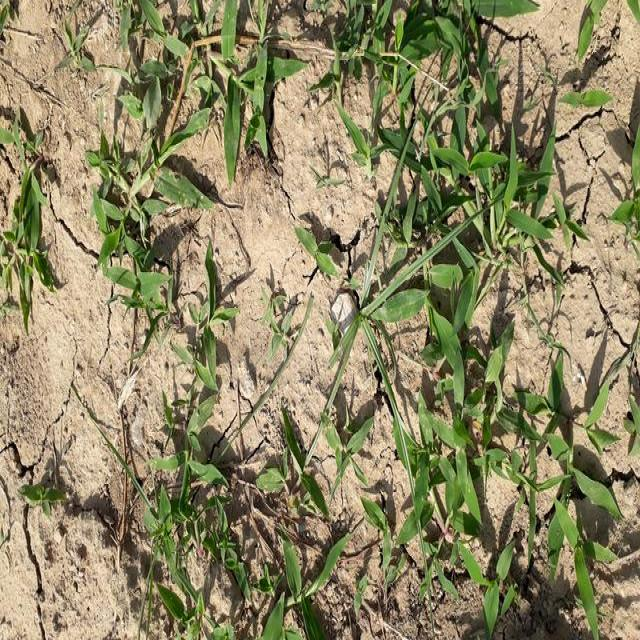weed: (370, 127, 530, 640), (152, 412, 378, 639), (125, 0, 529, 111), (542, 373, 626, 640), (80, 124, 203, 301), (8, 117, 50, 330)
